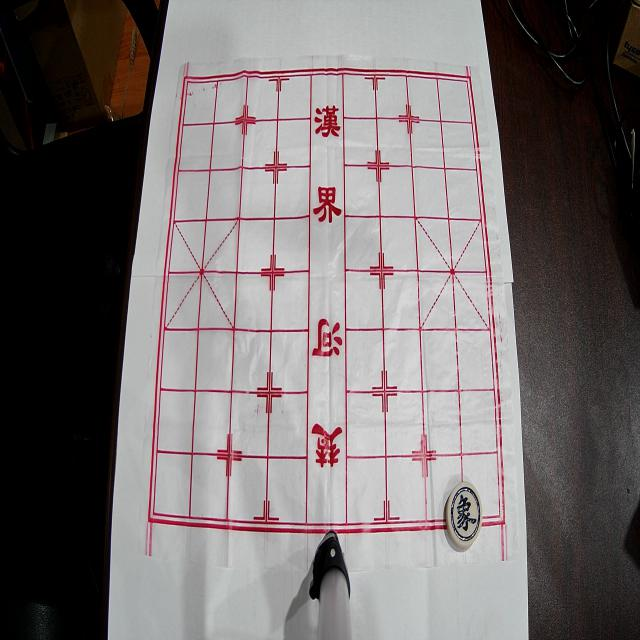black-elephant: (446, 482, 482, 548)
